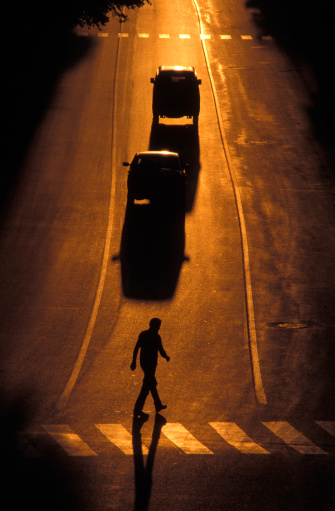car: (113, 144, 198, 221)
